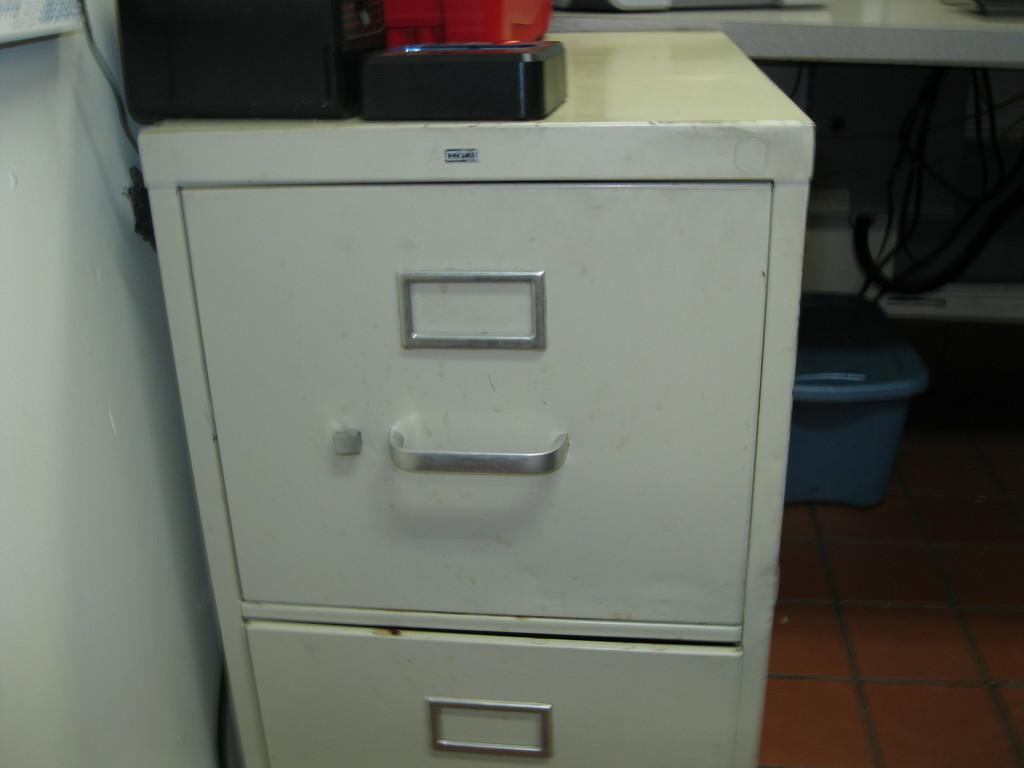cabinet_door: (181, 194, 744, 620), (268, 651, 727, 768)
handle: (385, 430, 568, 488)
